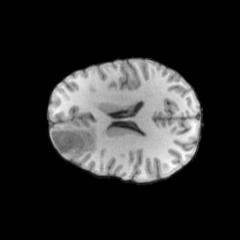glioma: (50, 122, 95, 156)
